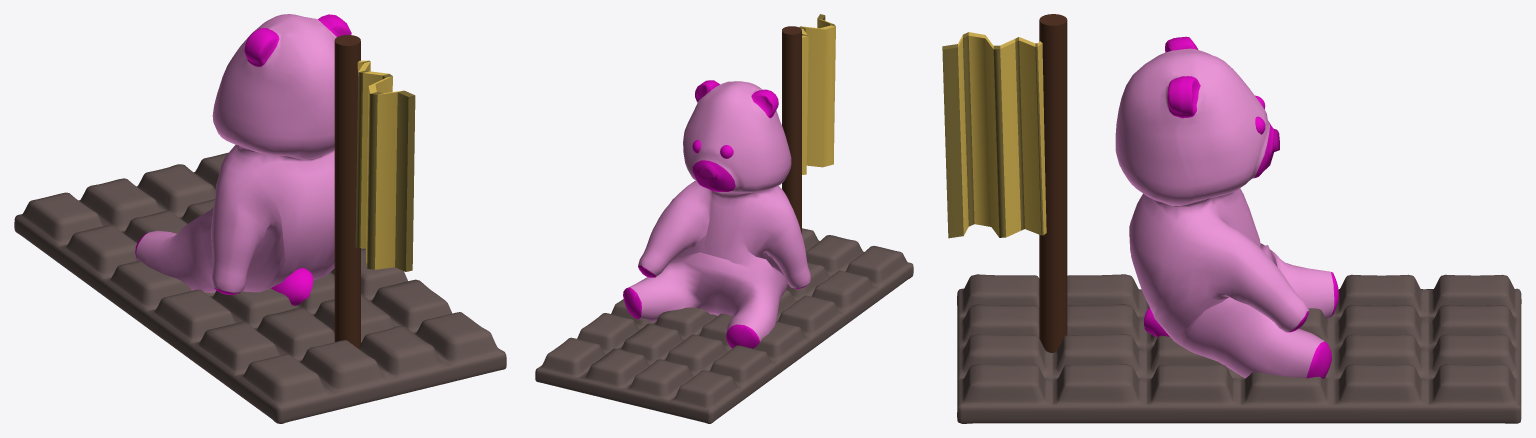
File: BearBoat.fbx
3 renders of one model, left to right at view 1: azimuth 30°, elevation 25°; view 2: azimuth 150°, elevation 25°; view 3: azimuth 270°, elevation 25°, orthographic. The views are drawn at different scales.
Parts seen in each view (by area): view 1: polySurface26; view 2: polySurface26; view 3: polySurface26.
Part boxes in pixels (box(x1,y1,x2,y2)): polySurface26: box(14, 14, 506, 423); polySurface26: box(535, 14, 913, 423); polySurface26: box(942, 14, 1521, 423).
Size of the model in its own units: 10.43 by 14.05 by 21.32.
